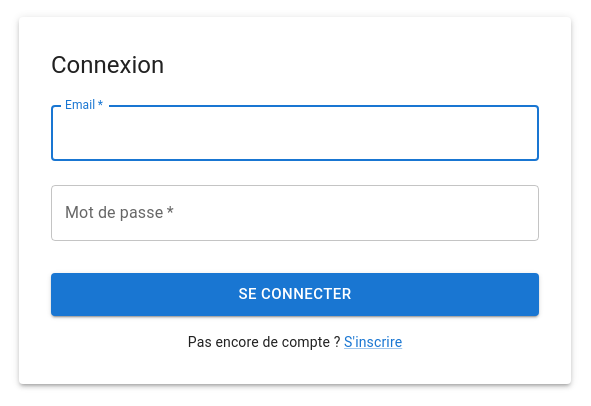
Test: LoginPage › disables the submit button while loading
This screenshot has width=591, height=406.
Click the button "Se connecter". click: (295,295)
box: [51,273,539,316]
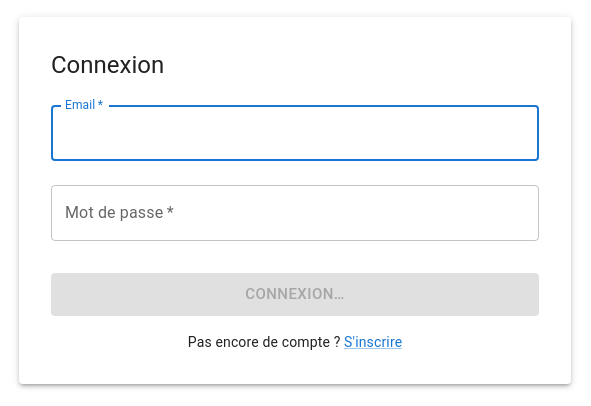
Now the button "Connexion…" is disabled, box [51,273,539,316]
